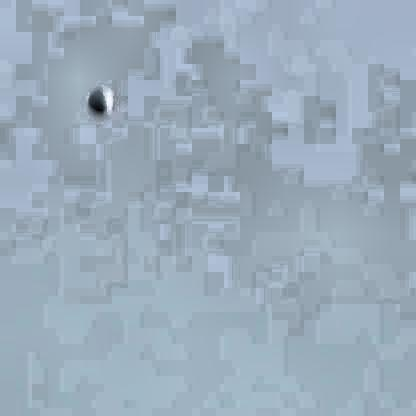golfball: (85, 81, 113, 112)
